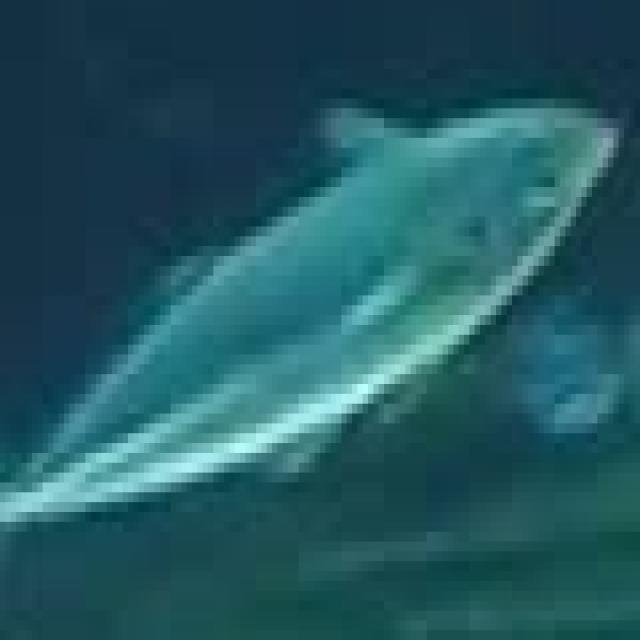fish: (5, 0, 640, 630)
